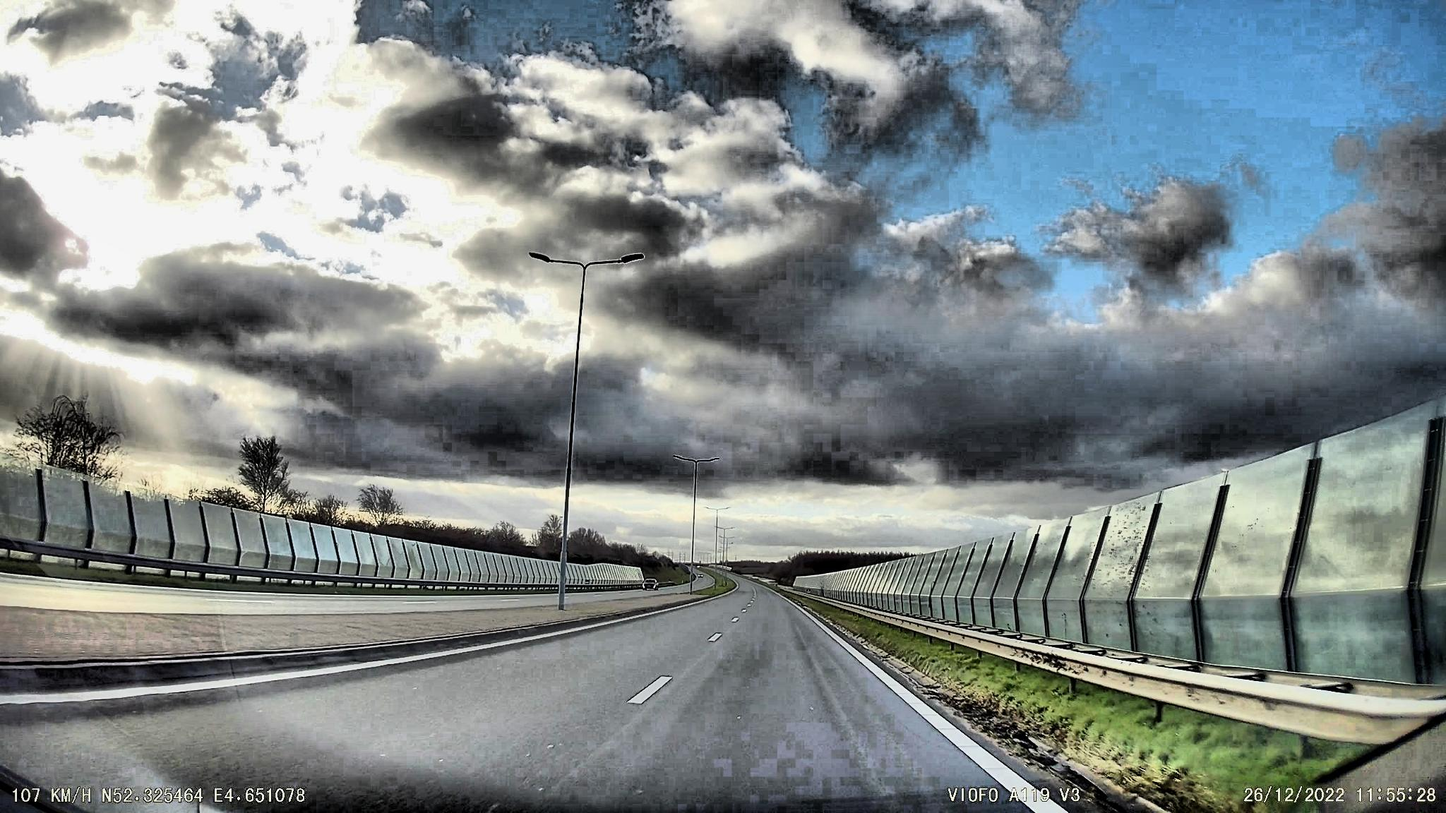Roads: (0, 591, 1066, 813)
